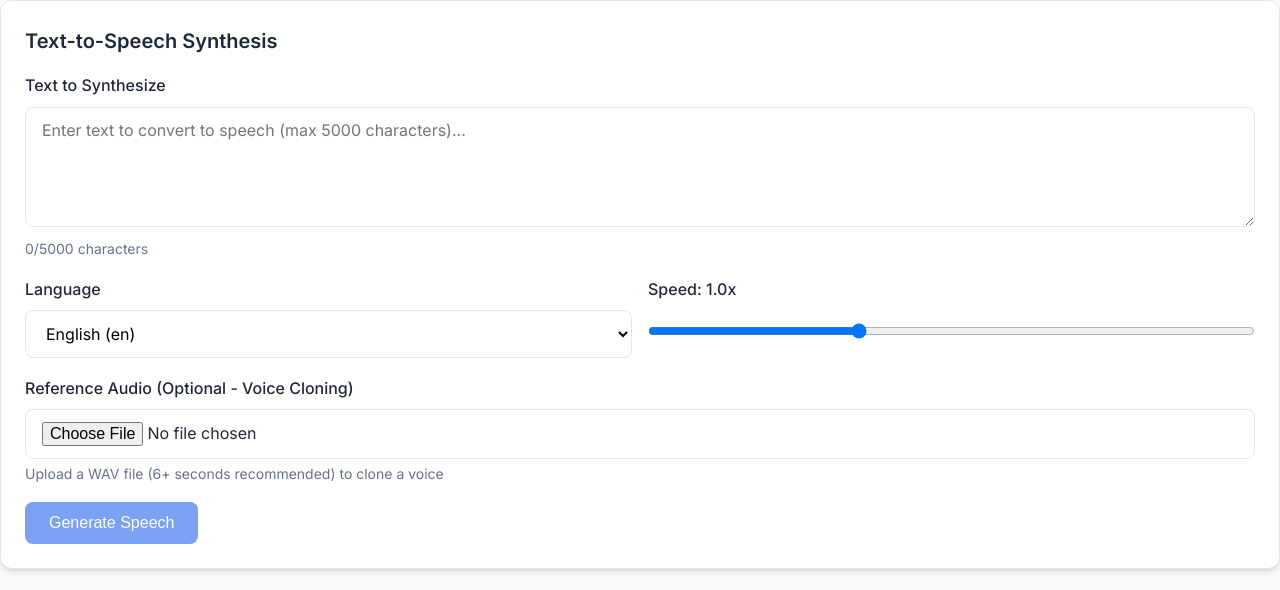
Scenario: TTSForm › shows character count
This screenshot has width=1280, height=590.
In the text box labelled "Text to Synthesize": (640, 167) [25,107,1255,227], type "Hello world"
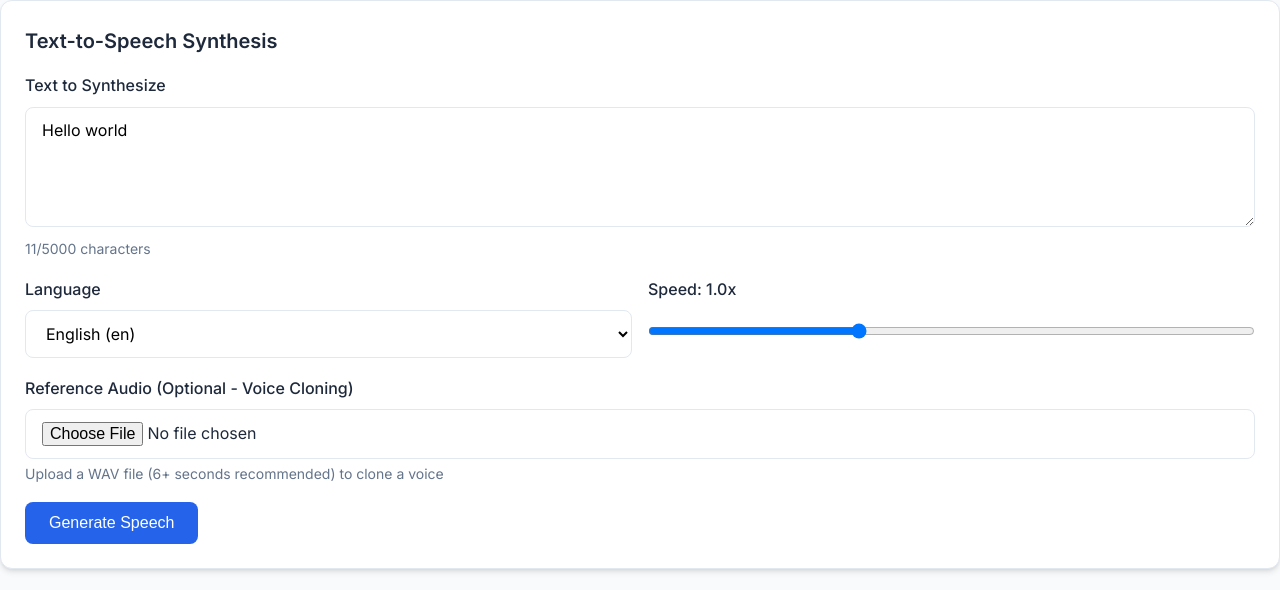
Result: the text "11/5000 characters" is shown at [25,240,151,257]
